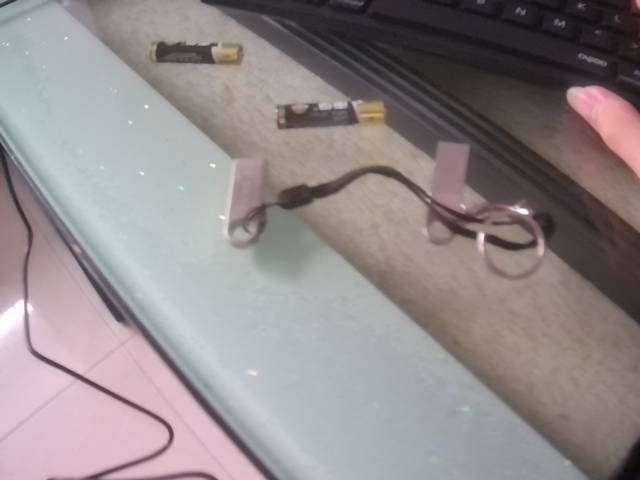U-disk: (419, 135, 555, 279), (219, 149, 324, 251)
battery: (270, 94, 391, 130), (145, 34, 251, 68)
